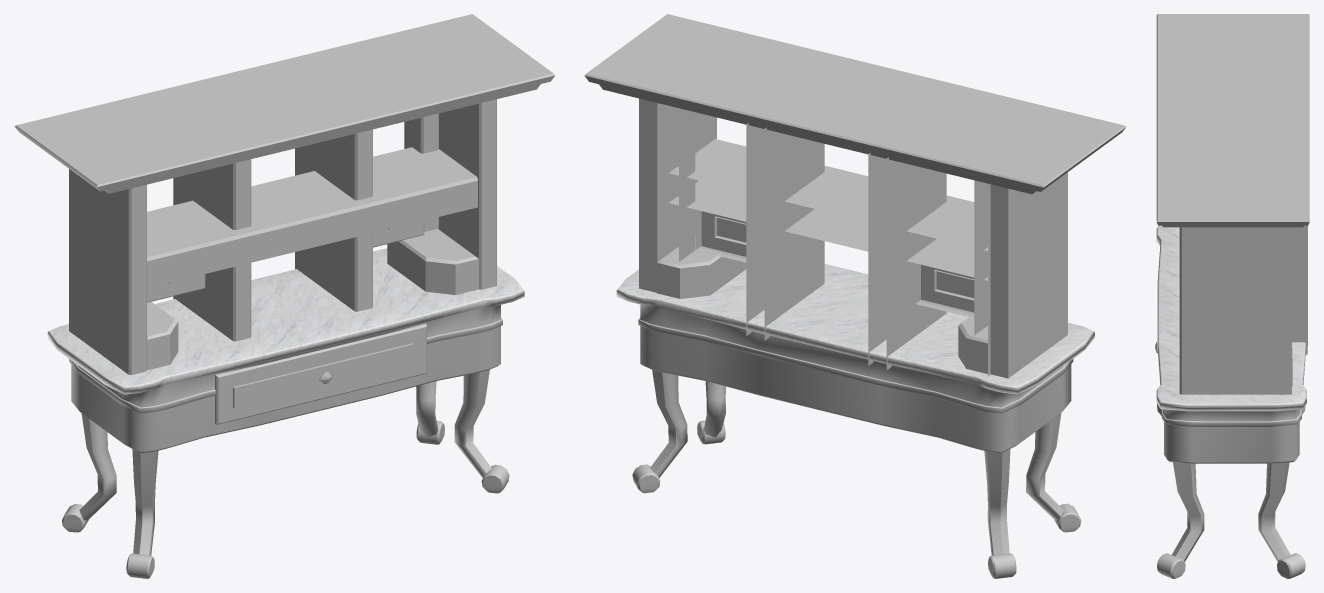
File: Desk.fbx
3 renders of one model, left to right at view 1: azimuth 30°, elevation 25°; view 2: azimuth 150°, elevation 25°; view 3: azimuth 270°, elevation 25°, orthographic. The views are drawn at different scales.
Parts seen in each view (by area): view 1: Desk; view 2: Desk; view 3: Desk.
Boxes of the visible parts, left/top/right/bottom form: Desk: left=14, top=14, right=555, bottom=578; Desk: left=584, top=14, right=1126, bottom=578; Desk: left=1155, top=14, right=1309, bottom=578.
Bounding box in the file's own units: 320 × 273 × 101.
